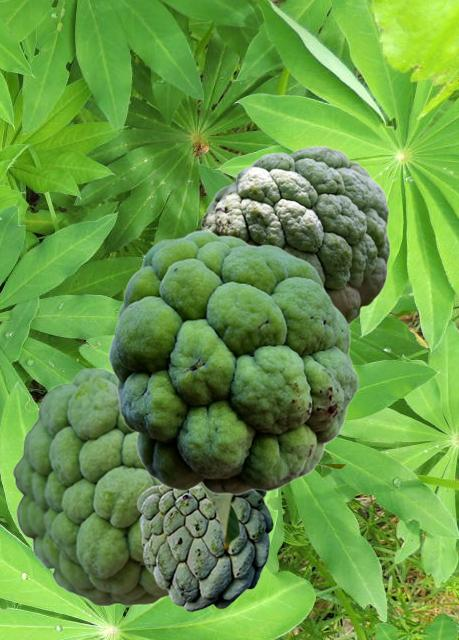atis: (108, 229, 358, 495), (12, 367, 169, 605), (200, 145, 390, 325), (136, 464, 345, 611)
